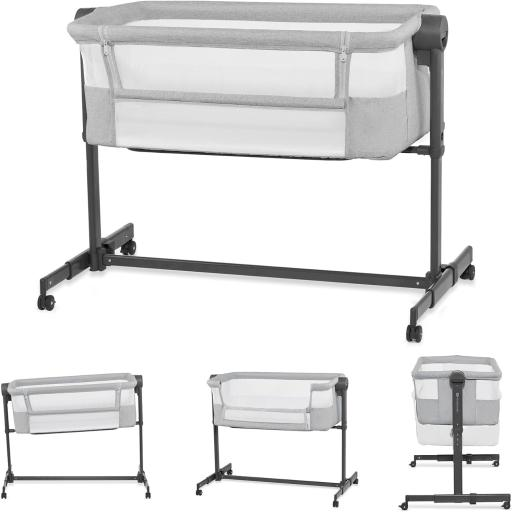crib: (39, 3, 475, 342), (197, 370, 358, 506), (1, 375, 151, 499), (401, 355, 512, 511)
